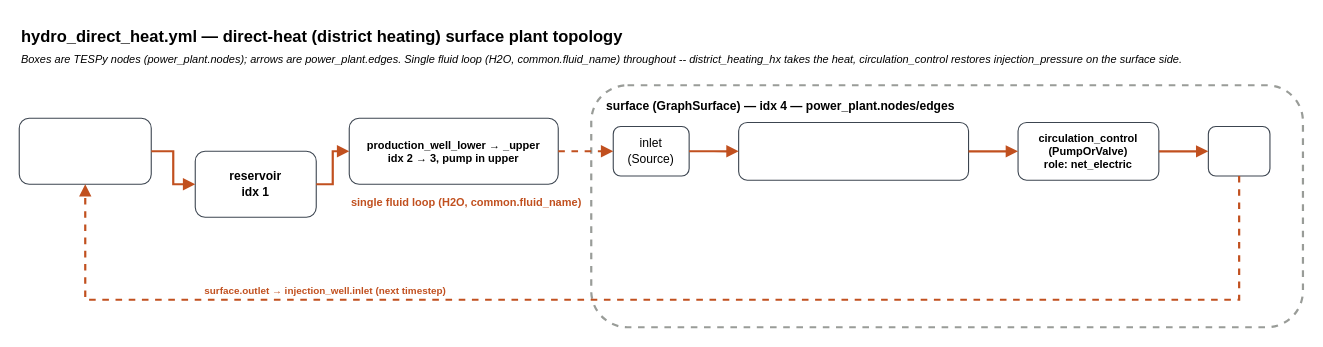
Some shapes in this 1323 by 347 pixel diagram are drawn without their labels. Each missing label, with the centre of its shape:
"district_heating_hx (SimpleHeatExchanger) role: net_thermal, T_out=323.15 K" belongs at point 853,150.
"injection_well component_idx 0" belongs at point 84,150.
"outlet (Sink)" belongs at point 1238,150.
